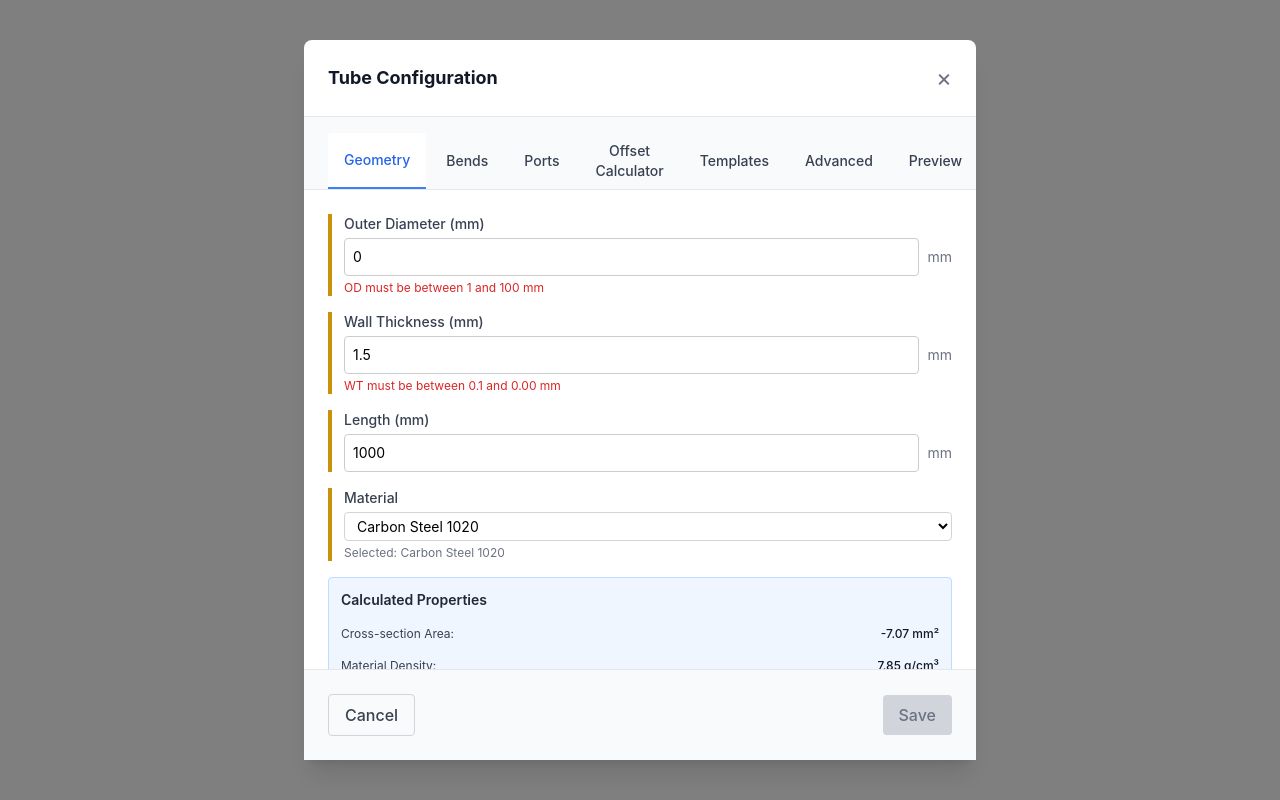
TubeDialog › Tab Navigation › should switch to Advanced tab
Click the tab "Advanced": click(839, 161) [789,133,889,189]
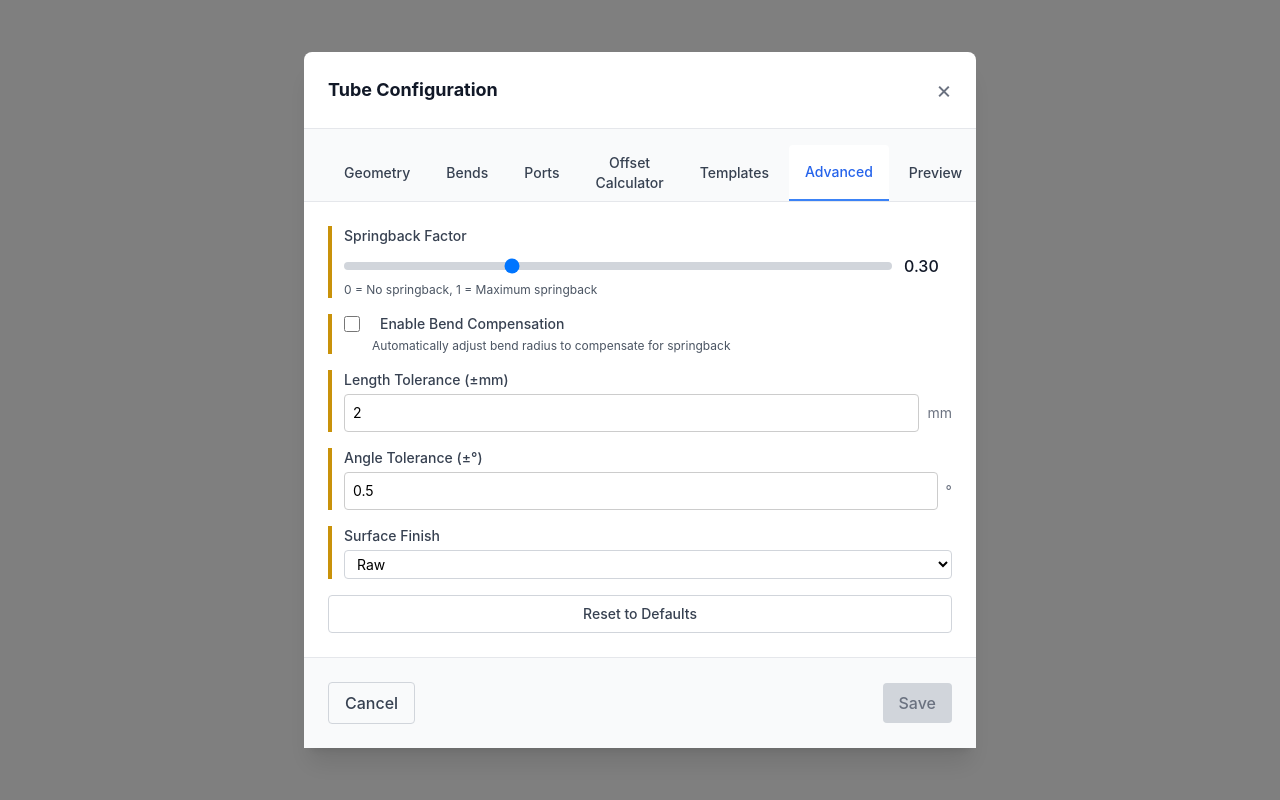
Expected: the button "Reset to Defaults" is shown, [328,595,952,633]
